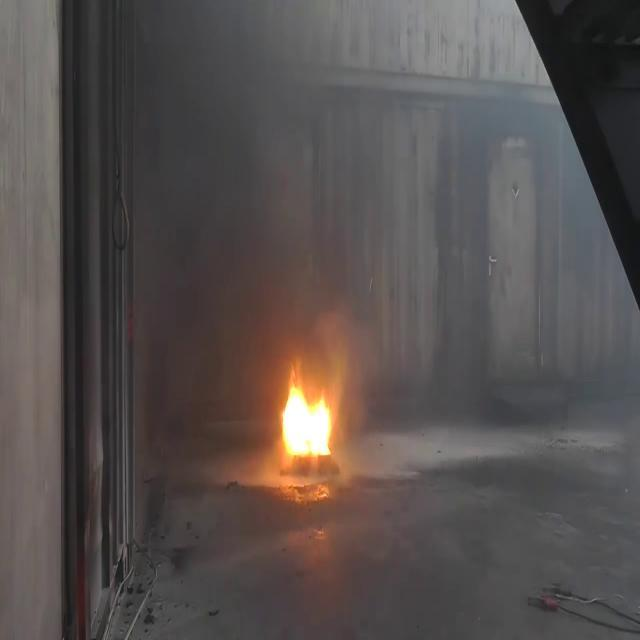Fire: (276, 370, 336, 468)
Smoke: (126, 0, 422, 354)
